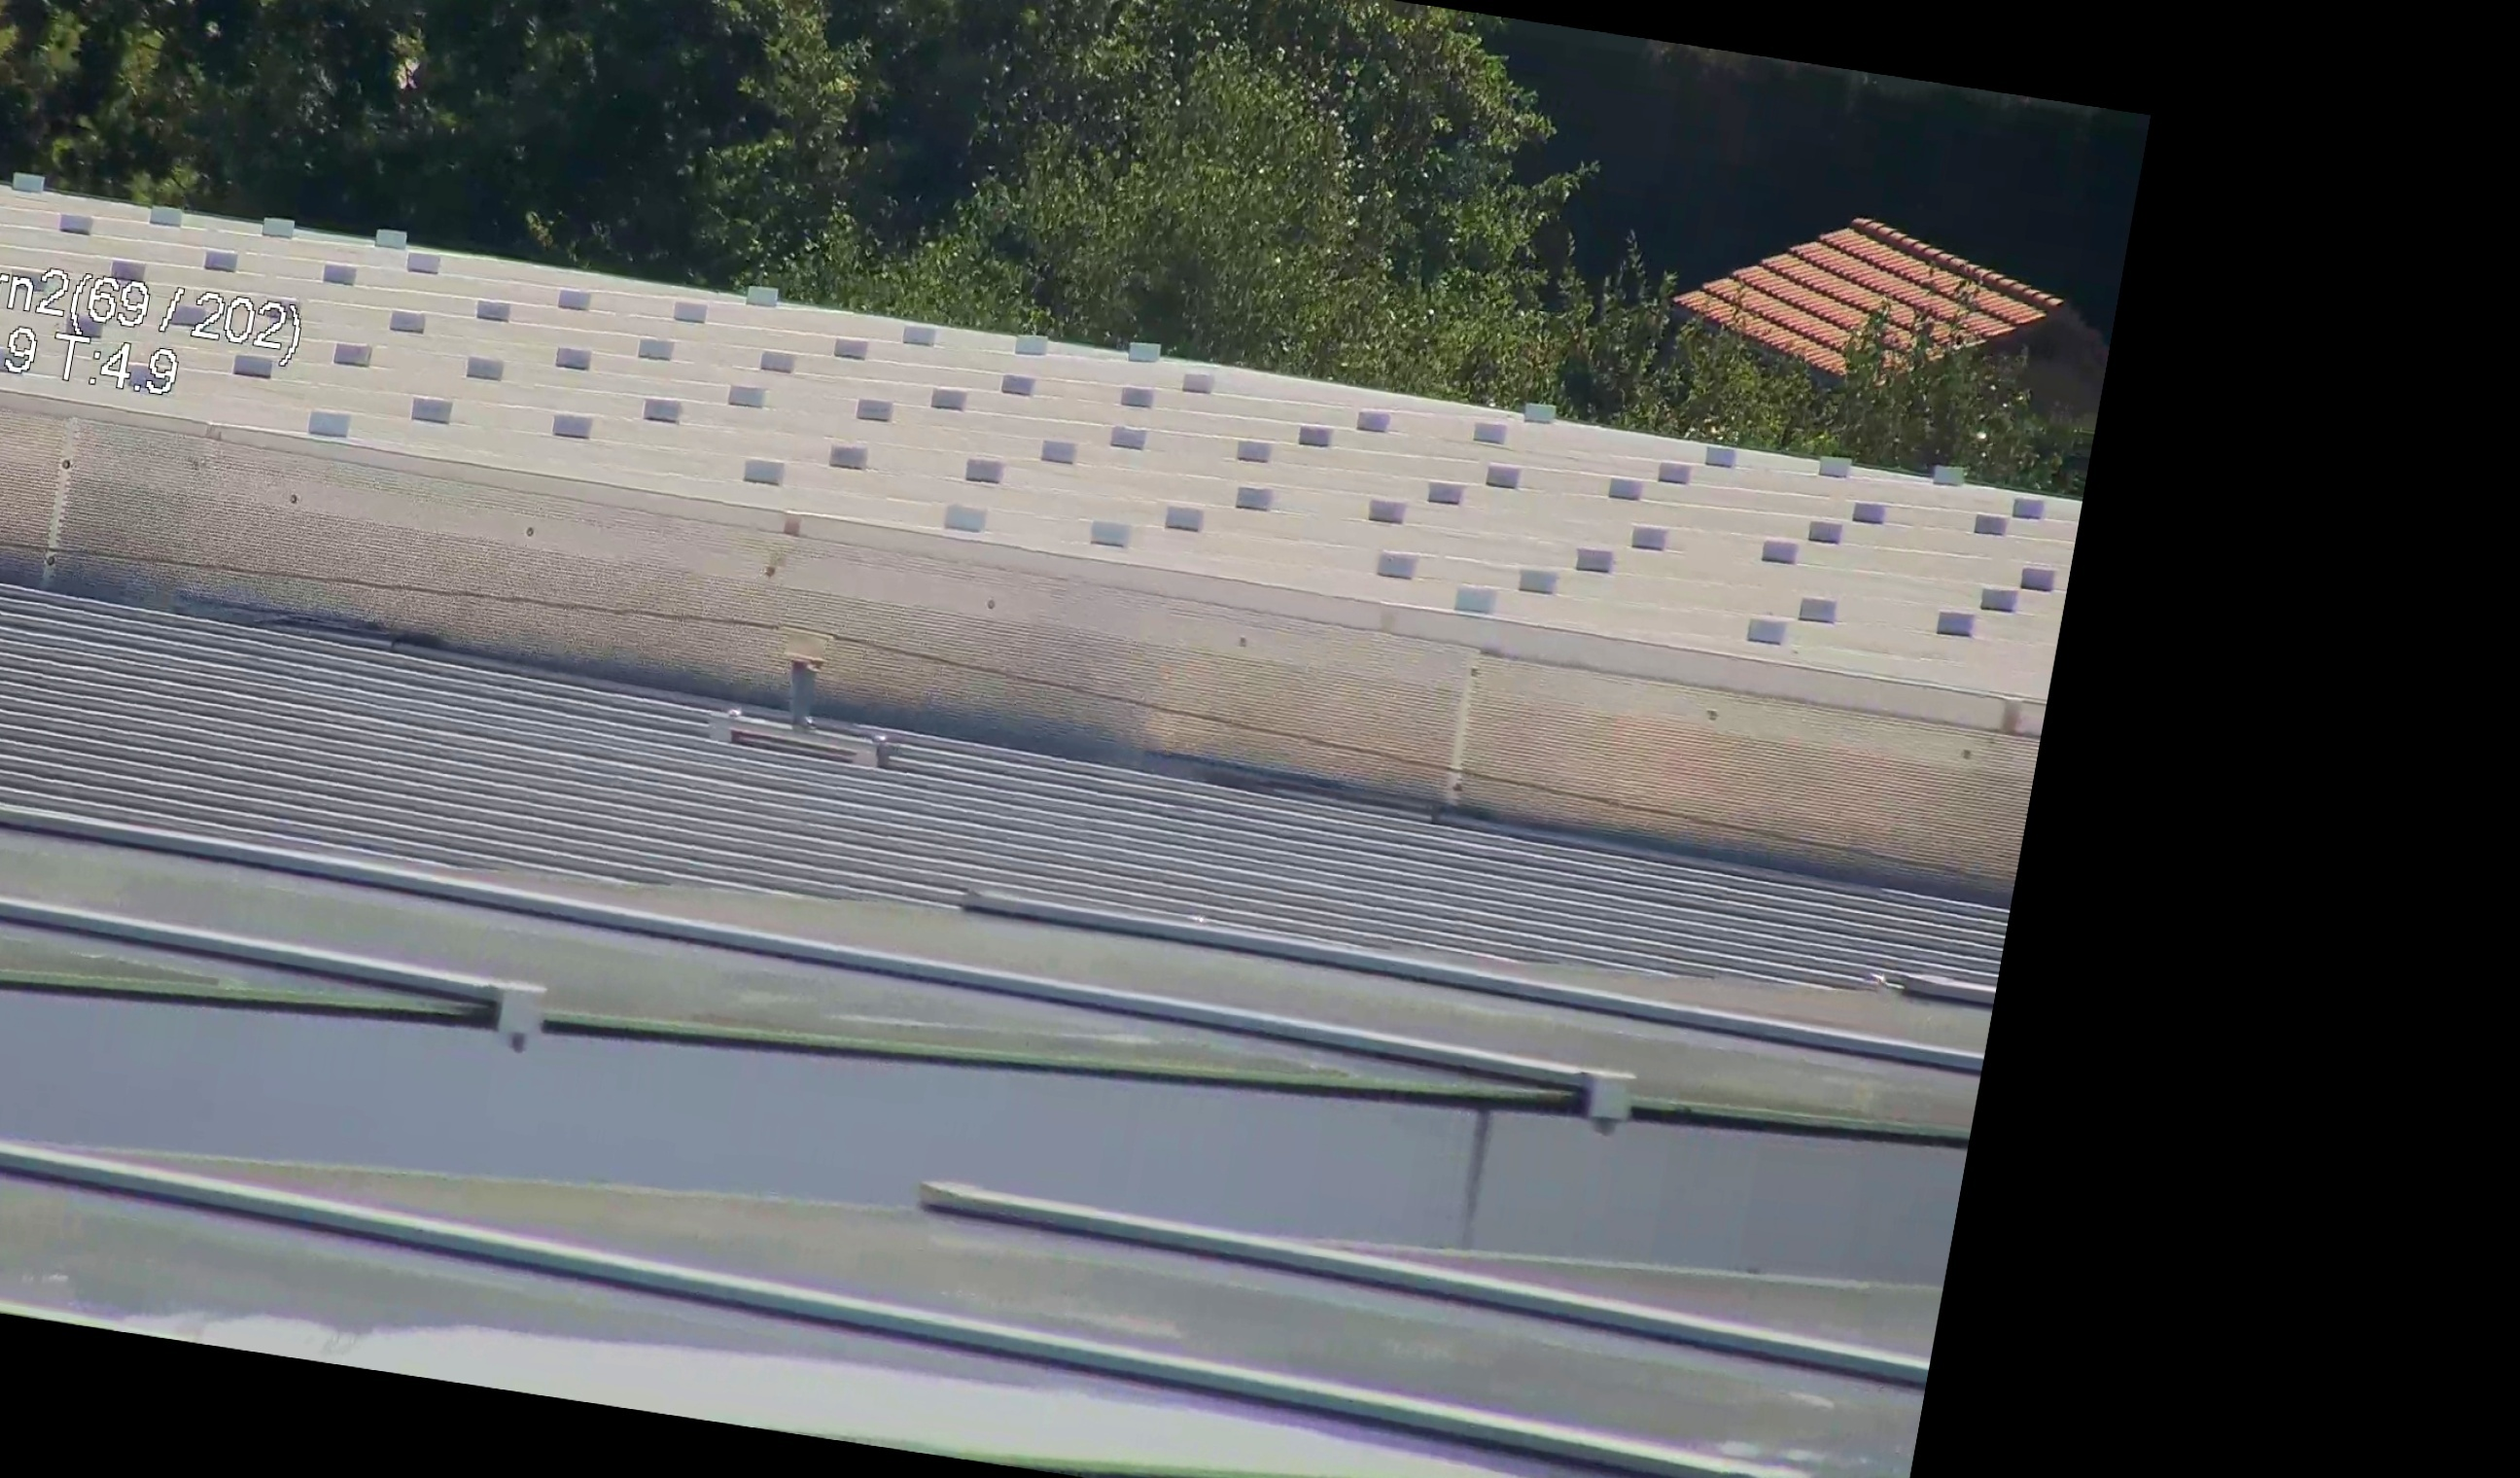Other: (747, 640, 879, 758)
